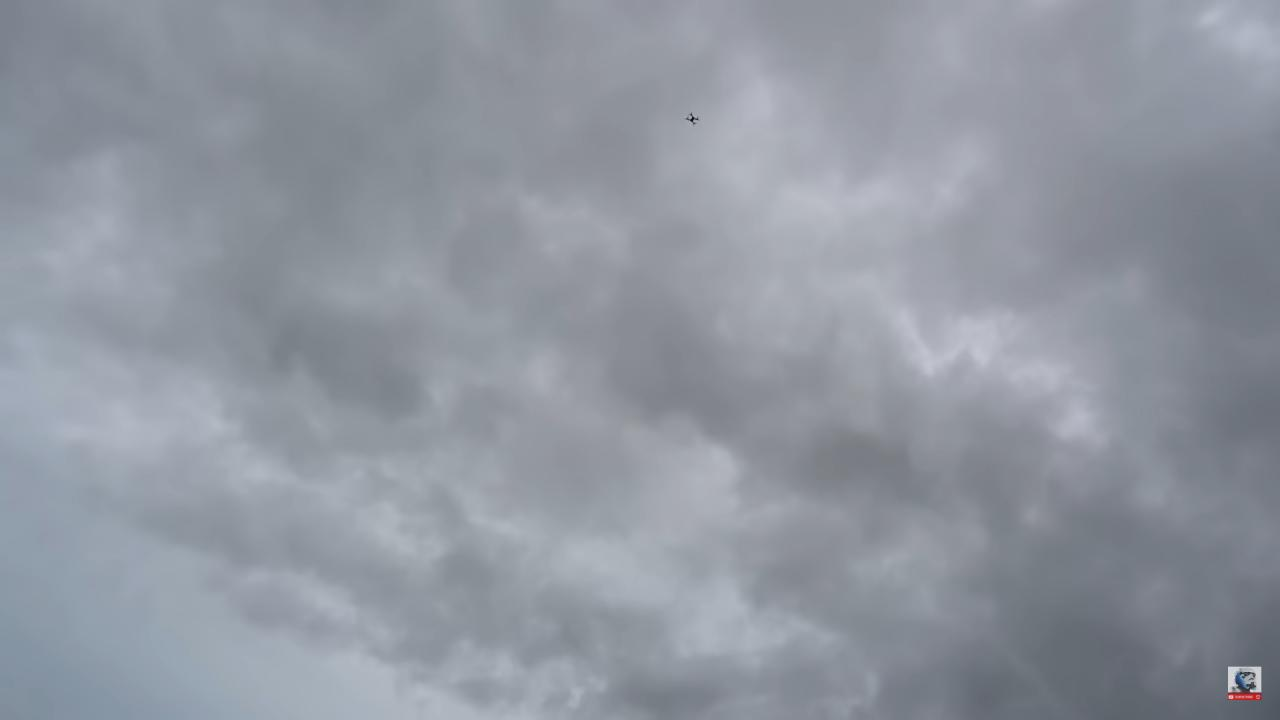Drone: (674, 103, 708, 135)
